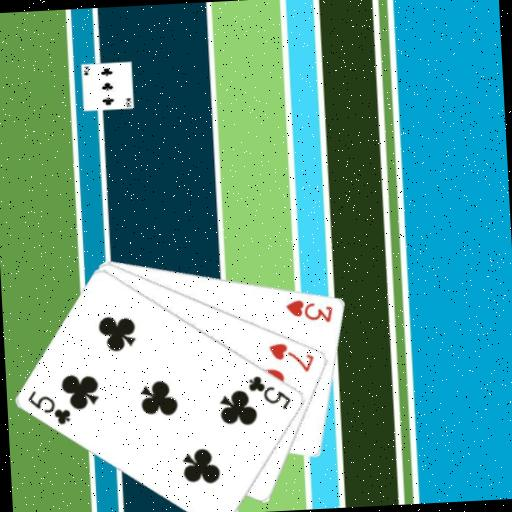3H: (283, 295, 335, 326)
5C: (24, 385, 73, 428), (244, 371, 294, 413)
7H: (266, 338, 318, 376)
